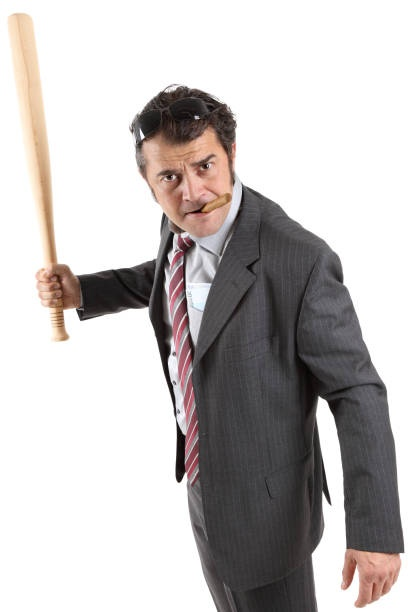bita: (1, 16, 79, 347)
